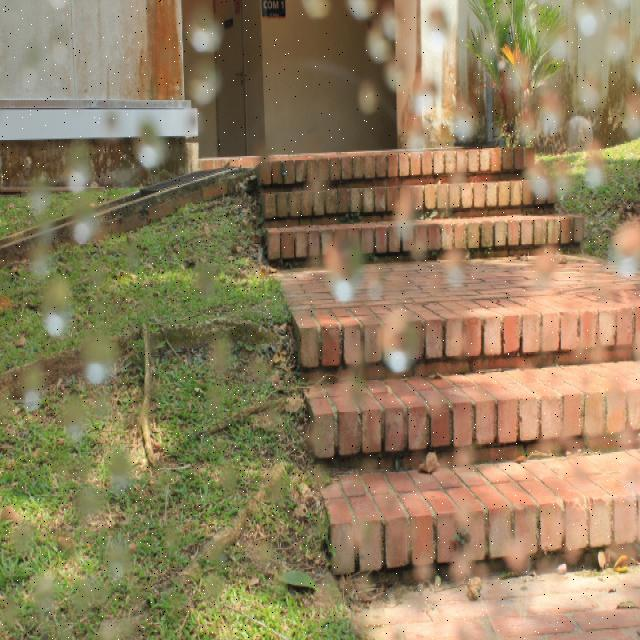raindrop: (119, 114, 173, 182), (198, 330, 232, 434), (375, 307, 422, 378), (46, 143, 94, 206), (326, 230, 362, 310), (518, 238, 566, 298), (566, 132, 608, 200), (341, 506, 386, 562), (180, 62, 224, 116), (80, 328, 118, 389), (607, 222, 640, 288), (180, 10, 226, 56), (520, 163, 554, 221), (585, 316, 617, 376), (618, 432, 640, 510), (393, 184, 423, 241), (45, 276, 73, 337), (66, 203, 102, 250), (538, 27, 574, 74), (62, 386, 86, 456), (108, 534, 136, 592), (82, 479, 108, 538), (392, 134, 428, 176), (500, 530, 534, 574), (21, 359, 48, 414), (73, 570, 101, 622), (564, 110, 594, 158), (446, 433, 472, 488), (448, 532, 481, 575), (457, 103, 483, 154), (31, 227, 52, 288), (112, 447, 134, 505), (449, 159, 477, 204), (192, 263, 216, 315), (512, 52, 538, 100), (425, 10, 453, 54), (443, 244, 469, 290), (545, 90, 569, 136), (606, 35, 632, 77), (17, 522, 39, 570), (26, 178, 48, 224), (48, 30, 76, 66), (583, 70, 602, 122), (383, 60, 412, 94), (411, 554, 432, 600), (369, 22, 392, 64), (624, 86, 640, 144), (34, 575, 54, 619), (91, 394, 108, 441), (27, 51, 46, 93), (416, 86, 439, 120), (368, 267, 390, 301), (345, 0, 383, 19), (383, 3, 400, 44), (300, 0, 338, 18), (455, 494, 475, 528), (574, 10, 596, 40), (496, 0, 516, 24), (362, 82, 375, 115), (481, 38, 497, 61), (612, 0, 638, 10), (52, 10, 78, 12)
